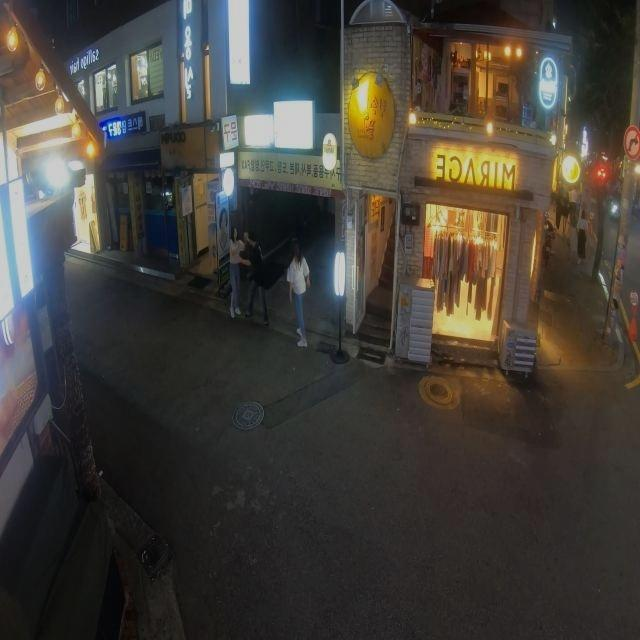fight: (221, 223, 274, 326)
non-fight: (283, 241, 315, 351)
